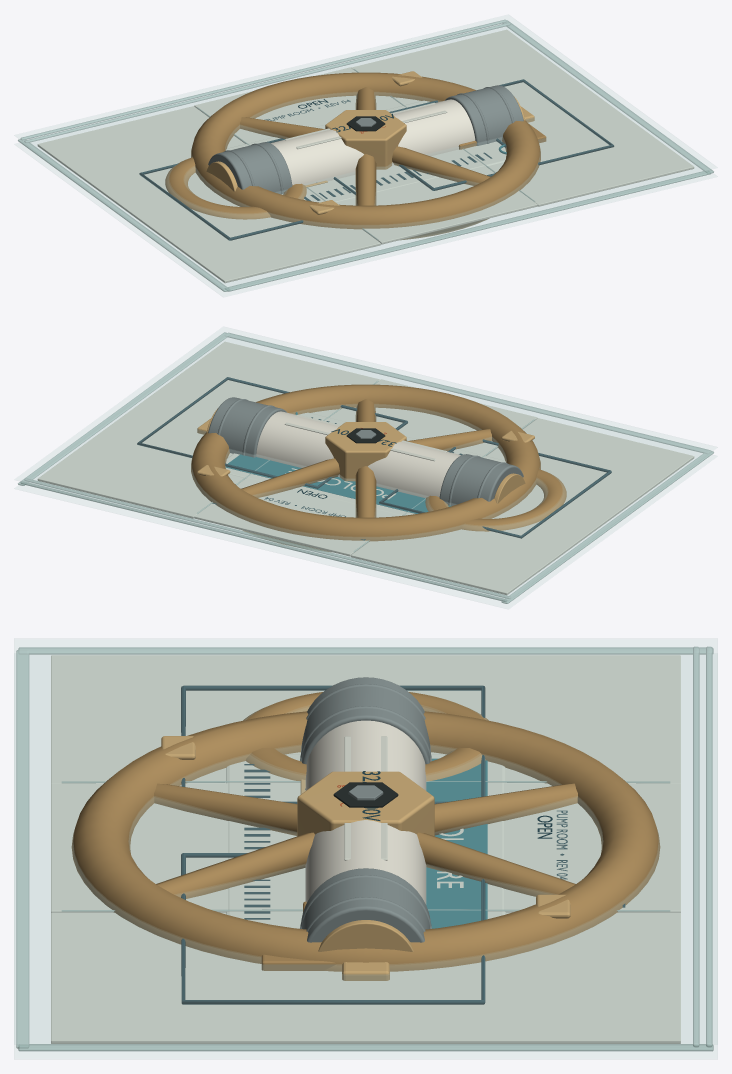
File: campaign_collectibles.glb
The picture shows the model from 3 angles, top to bottom: view 1: azimuth 30°, elevation 25°; view 2: azimuth 150°, elevation 25°; view 3: azimuth 270°, elevation 25°; orthographic projection. The views are drawn at different scales.
Visible parts, largest first — view 1: Clear sleeve front, Folded synthetic sheet panel, Folded synthetic sheet panel.002, Cast brass handwheel rim, Clear sleeve back, Folded synthetic sheet panel.001, Porcelain cartridge body, Waterproof polymer card, Bottom sleeve weld, Valve hexagonal spindle boss, Nickel plated end cap, Nickel plated end cap.001 (+12 smaller); view 2: Clear sleeve front, Folded synthetic sheet panel, Folded synthetic sheet panel.002, Cast brass handwheel rim, Clear sleeve back, Folded synthetic sheet panel.001, Porcelain cartridge body, Bottom sleeve weld, Valve hexagonal spindle boss, Nickel plated end cap, Nickel plated end cap.001, Key pierced oval bow (+13 smaller); view 3: Clear sleeve front, Folded synthetic sheet panel.002, Folded synthetic sheet panel, Cast brass handwheel rim, Clear sleeve back, Folded synthetic sheet panel.001, Porcelain cartridge body, Waterproof polymer card, Nickel plated end cap.001, Valve hexagonal spindle boss, Bottom sleeve weld, Heat welded side seam.001 (+17 smaller).
Part boxes in pixels (<box>): Clear sleeve front: <box>14,15,717,288</box>; Folded synthetic sheet panel: <box>37,106,380,283</box>; Folded synthetic sheet panel.002: <box>351,29,694,206</box>; Cast brass handwheel rim: <box>191,72,540,240</box>; Clear sleeve back: <box>14,27,717,296</box>; Folded synthetic sheet panel.001: <box>194,67,537,244</box>; Porcelain cartridge body: <box>271,99,475,185</box>; Waterproof polymer card: <box>226,100,506,202</box>; Bottom sleeve weld: <box>225,170,711,291</box>; Valve hexagonal spindle boss: <box>325,110,406,169</box>; Nickel plated end cap: <box>208,142,292,194</box>; Nickel plated end cap.001: <box>445,85,523,145</box>; Clear sleeve front: <box>14,327,717,600</box>; Folded synthetic sheet panel: <box>351,418,694,595</box>; Folded synthetic sheet panel.002: <box>37,341,380,518</box>; Cast brass handwheel rim: <box>191,384,540,552</box>; Clear sleeve back: <box>14,338,717,608</box>; Folded synthetic sheet panel.001: <box>194,379,537,556</box>; Porcelain cartridge body: <box>256,411,460,498</box>; Bottom sleeve weld: <box>225,332,710,453</box>; Valve hexagonal spindle boss: <box>325,422,406,481</box>; Nickel plated end cap: <box>439,454,523,505</box>; Nickel plated end cap.001: <box>208,397,286,457</box>; Key pierced oval bow: <box>425,469,566,531</box>; Clear sleeve front: <box>14,638,717,1044</box>; Folded synthetic sheet panel.002: <box>51,912,680,1043</box>; Folded synthetic sheet panel: <box>51,655,680,783</box>; Cast brass handwheel rim: <box>71,711,660,971</box>; Clear sleeve back: <box>14,654,717,1059</box>; Folded synthetic sheet panel.001: <box>51,783,680,912</box>; Porcelain cartridge body: <box>305,720,426,904</box>; Waterproof polymer card: <box>226,754,505,928</box>; Nickel plated end cap.001: <box>301,868,430,942</box>; Valve hexagonal spindle boss: <box>297,771,434,836</box>; Bottom sleeve weld: <box>16,650,29,1048</box>; Heat welded side seam.001: <box>18,1044,713,1051</box>.
Size of the model in its own units: 0.221 by 0.0306 by 0.162.
